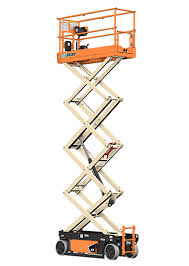Scissor Lift: (56, 7, 141, 260)
